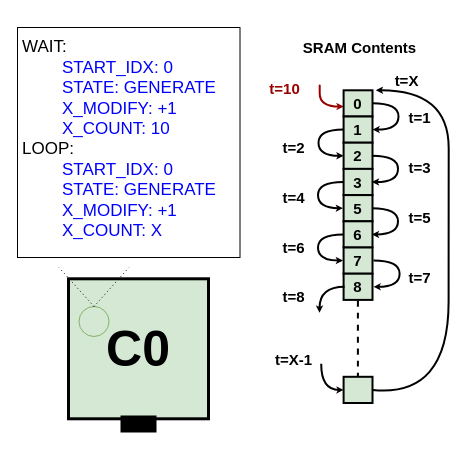
Image size: 467x449. Some labels were removed from this diagram. Here are the shapes that lost their labels. From the top down, the centre of each, then its label:
the point at 93,321: RAG
the point at 357,389: X-1
